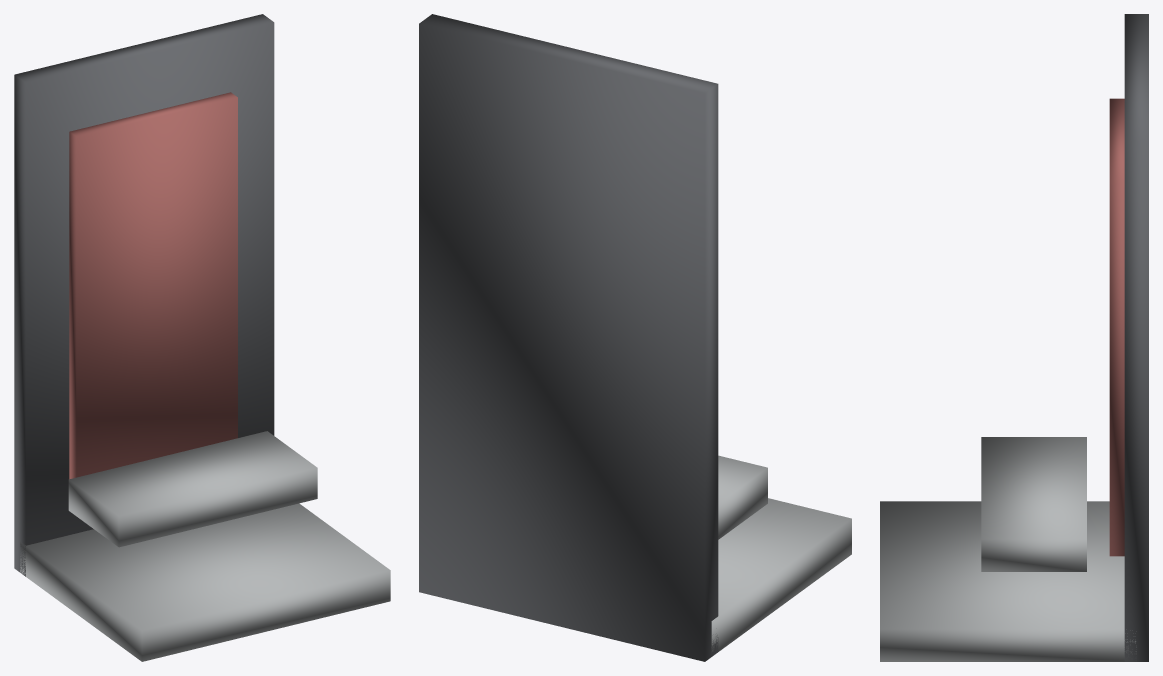
The model's file is roof_access_hatch_stair_01.glb.
3 views of the same model, side by side, from view 1: azimuth 30°, elevation 25°; view 2: azimuth 150°, elevation 25°; view 3: azimuth 270°, elevation 25° (orthographic). The views are drawn at different scales.
Parts seen in each view (by area): view 1: world; view 2: world; view 3: world.
Boxes of the visible parts, x1,y1,x2,y2 form: world: (14,14,390,661); world: (419,14,851,661); world: (880,14,1148,661).
Bounding box in the file's own units: 1 × 1.9 × 0.89.
